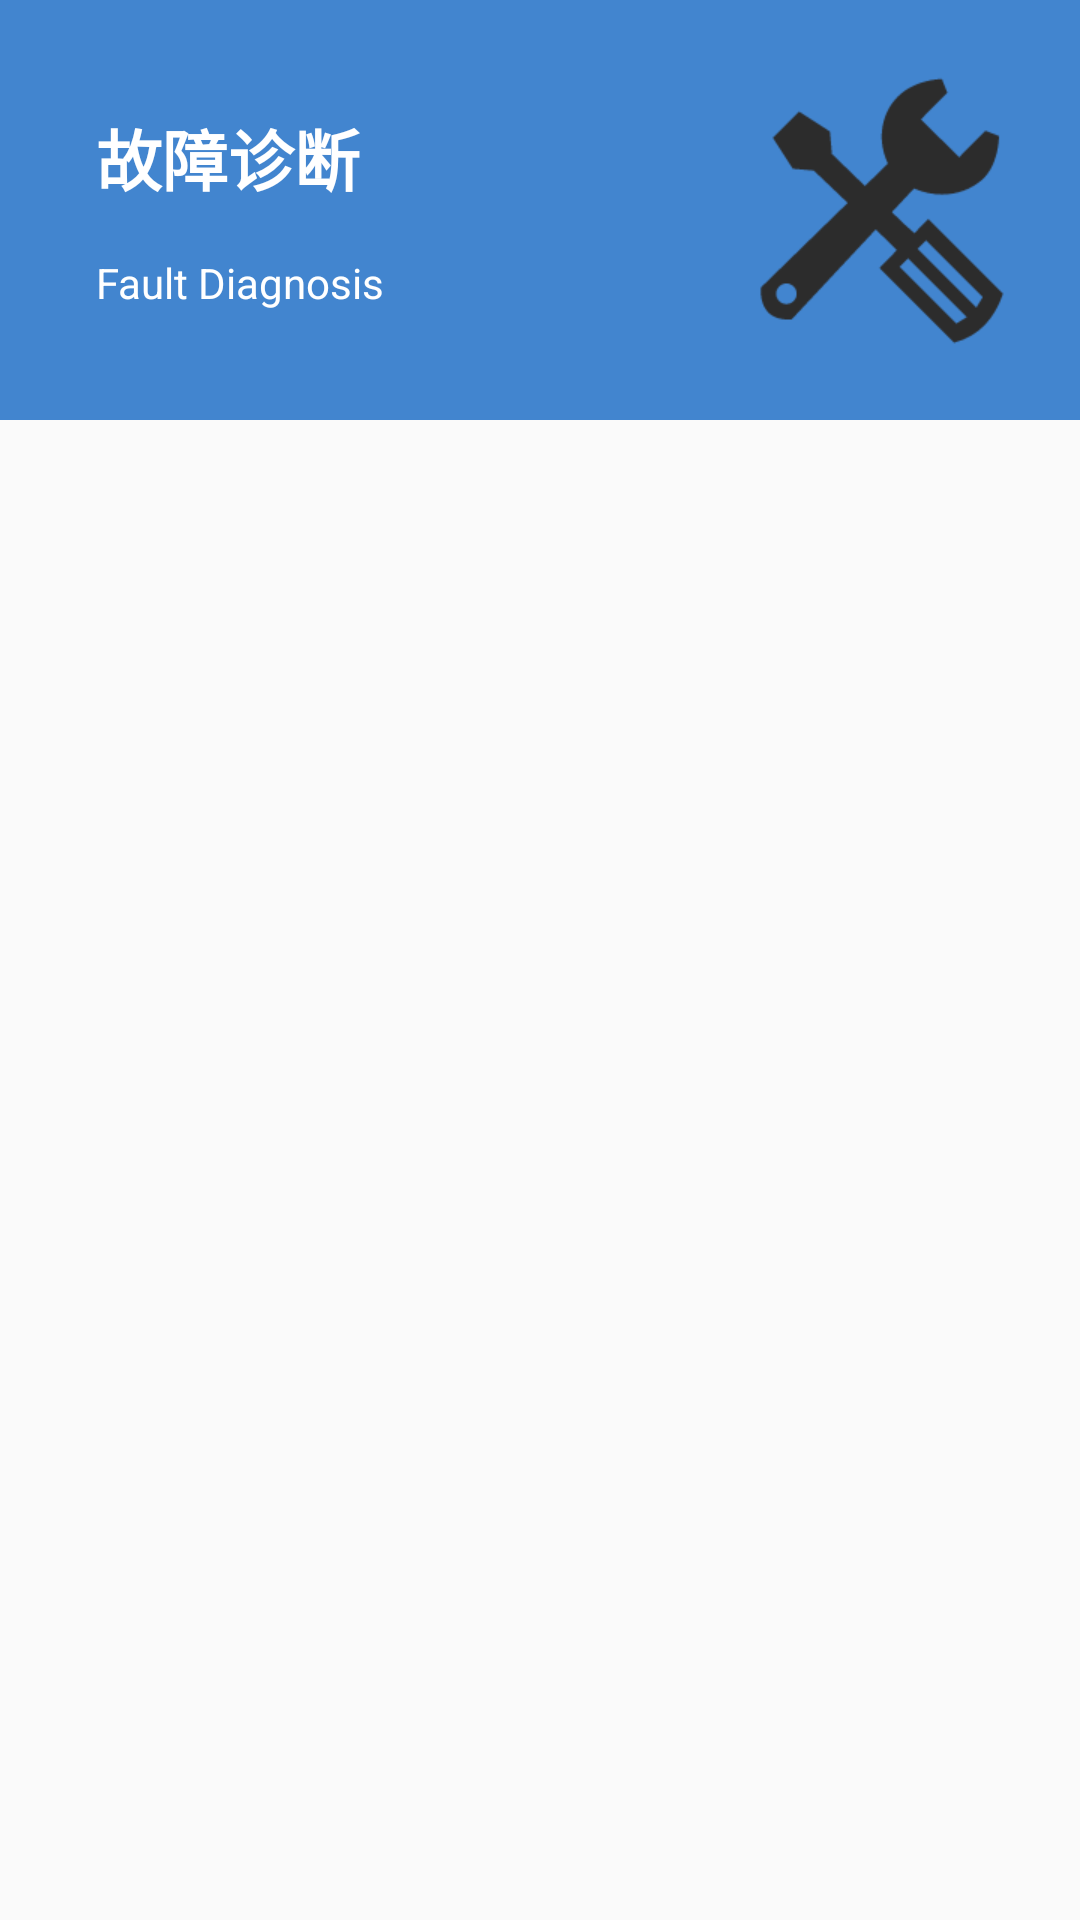

Icons on this 1080px×1920px Android screen, each with its box as (x1, y1, x2, y2):
fault: (760, 78, 1004, 344)
